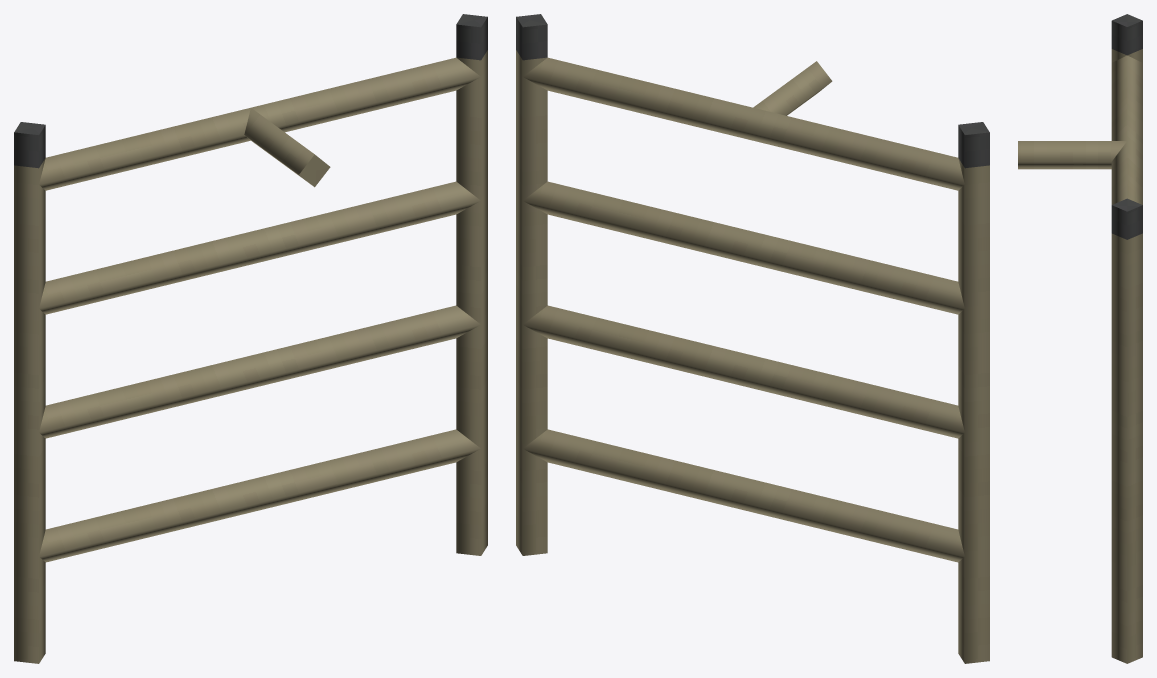
File: lepus_ladder_srf_1_1.obj
3 views of the same model, side by side, from view 1: azimuth 30°, elevation 25°; view 2: azimuth 150°, elevation 25°; view 3: azimuth 270°, elevation 25° (orthographic). The views are drawn at different scales.
Visible parts, largest first — view 1: lepus_ladder_srf_1_1; view 2: lepus_ladder_srf_1_1; view 3: lepus_ladder_srf_1_1.
Part boxes in pixels (left/top/right/bottom): lepus_ladder_srf_1_1: left=14, top=14, right=487, bottom=663; lepus_ladder_srf_1_1: left=516, top=14, right=989, bottom=663; lepus_ladder_srf_1_1: left=1018, top=14, right=1142, bottom=663.
Size of the model in its own units: 0.375 by 0.4 by 0.1.
